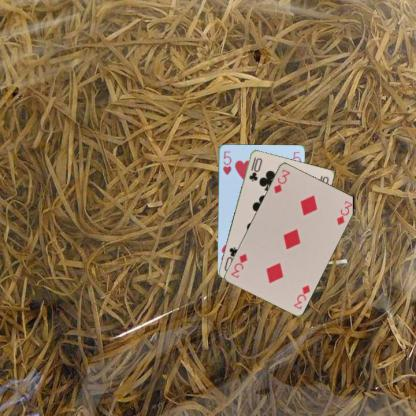10c: (246, 154, 264, 183)
3d: (290, 282, 312, 310), (271, 166, 291, 195)
5h: (220, 148, 232, 176)
